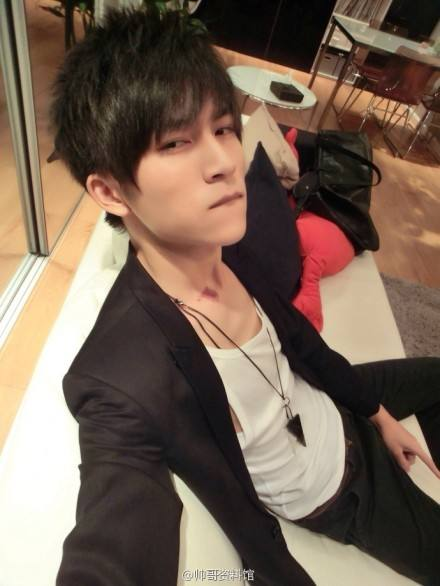person: (51, 35, 378, 466)
